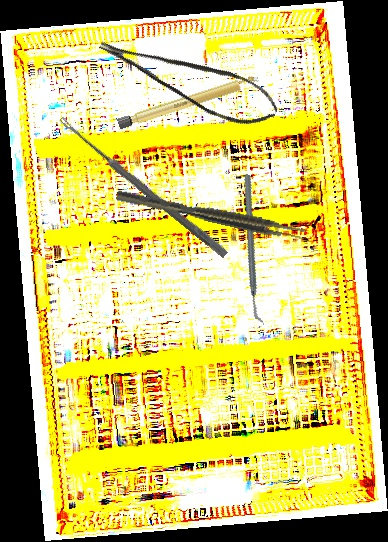Chopper: (197, 173, 311, 325)
Micro Scissor: (95, 9, 285, 142)
Scalpel Handle: (116, 73, 261, 131)
Surgical Spoon: (56, 115, 230, 259)
Tissue Forceps: (115, 184, 307, 244)
